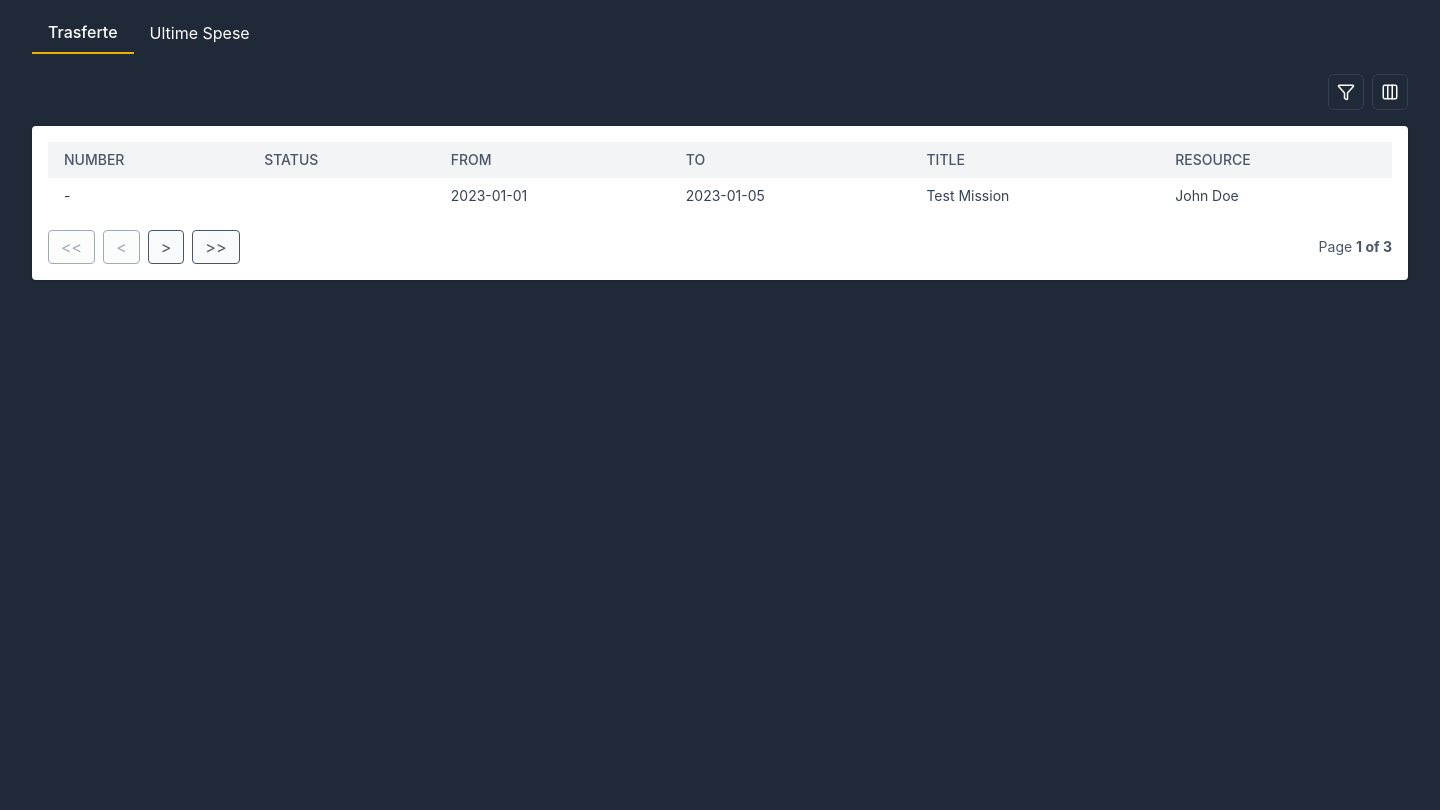
Test: MissionPage › suggests resources from the third character and keeps the filter open while picking
Click the button with test id "mission-filter-button".
click(1346, 92)  # box top-left (1328, 74), bottom-right (1364, 110)
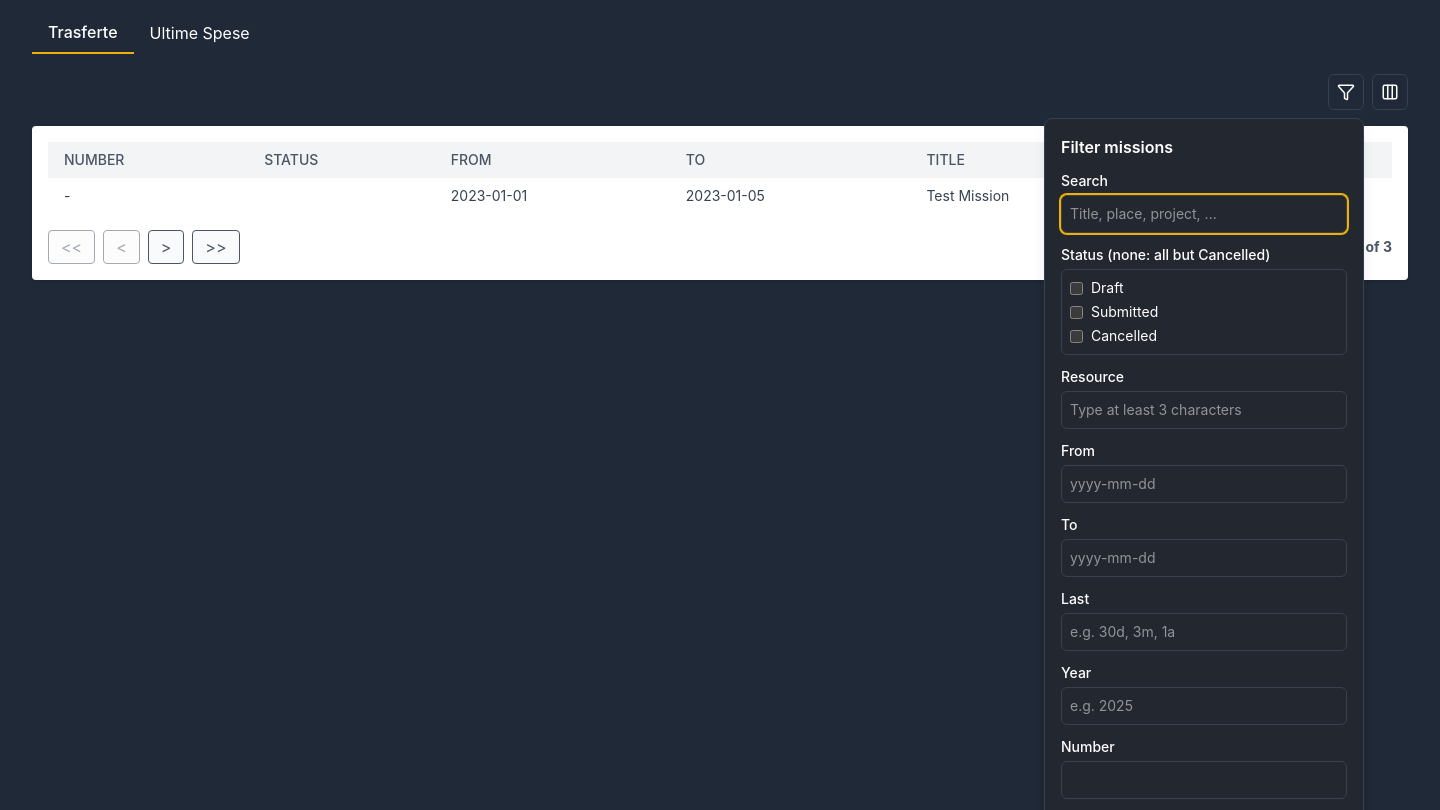
Type "ja" into the dropdown labelled "Resource".
click(1204, 410); type("ja")  # box top-left (1066, 396), bottom-right (1342, 424)
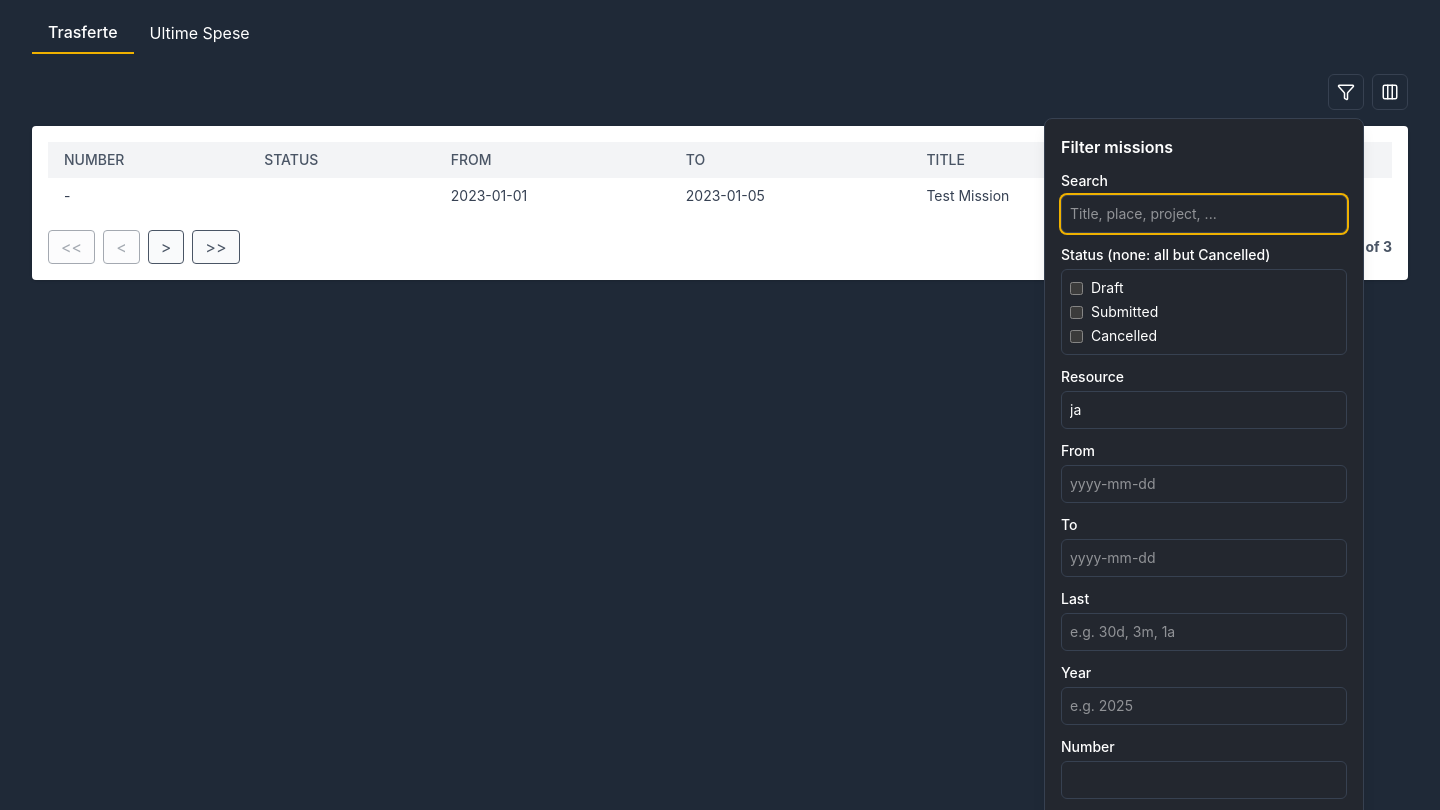
Replace the text in the dropdown labelled "Resource" with "jan" at (1204, 410), box top-left (1066, 396), bottom-right (1342, 424)
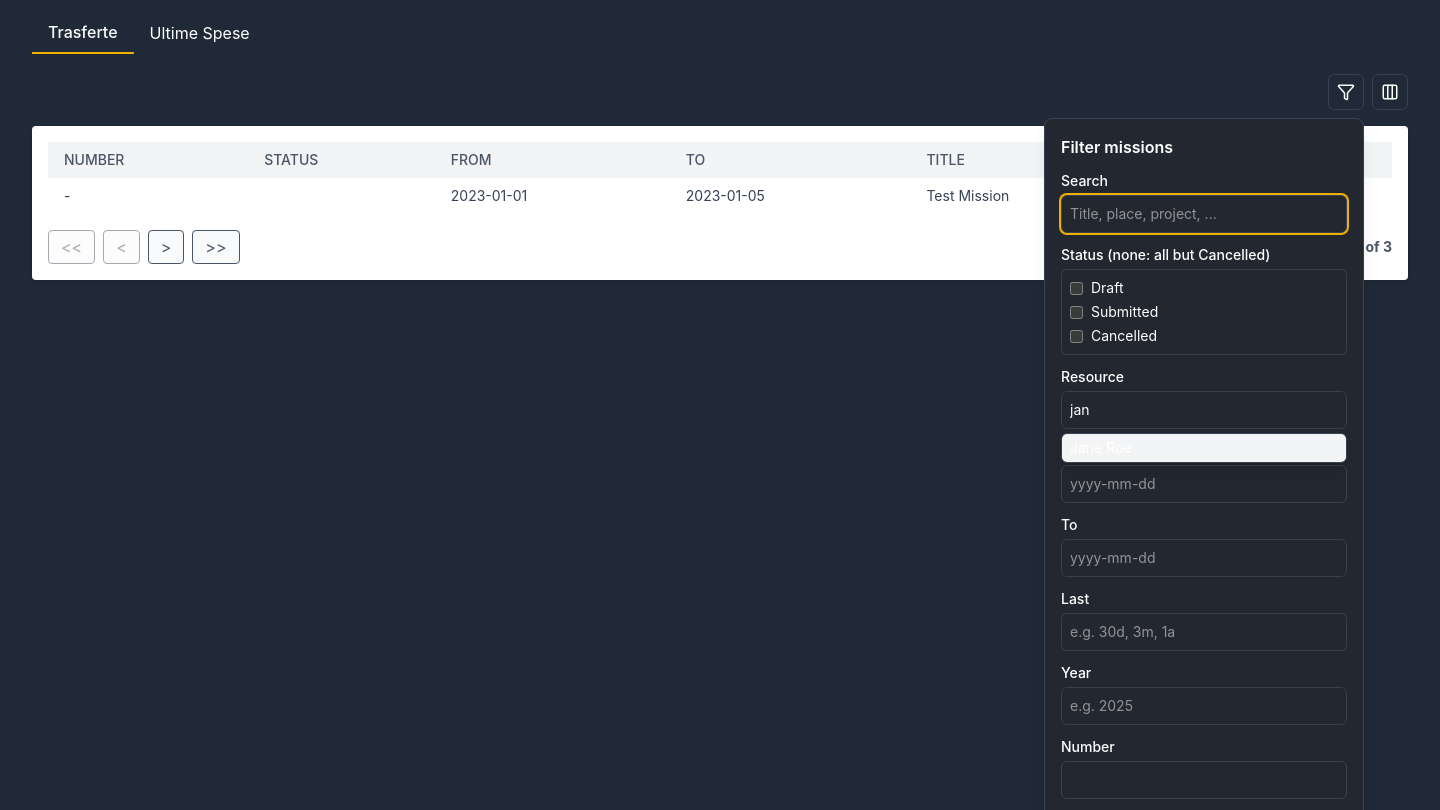
Press the mouse on the option "Jane Roe" at (1101, 448), box top-left (1062, 434), bottom-right (1346, 462)
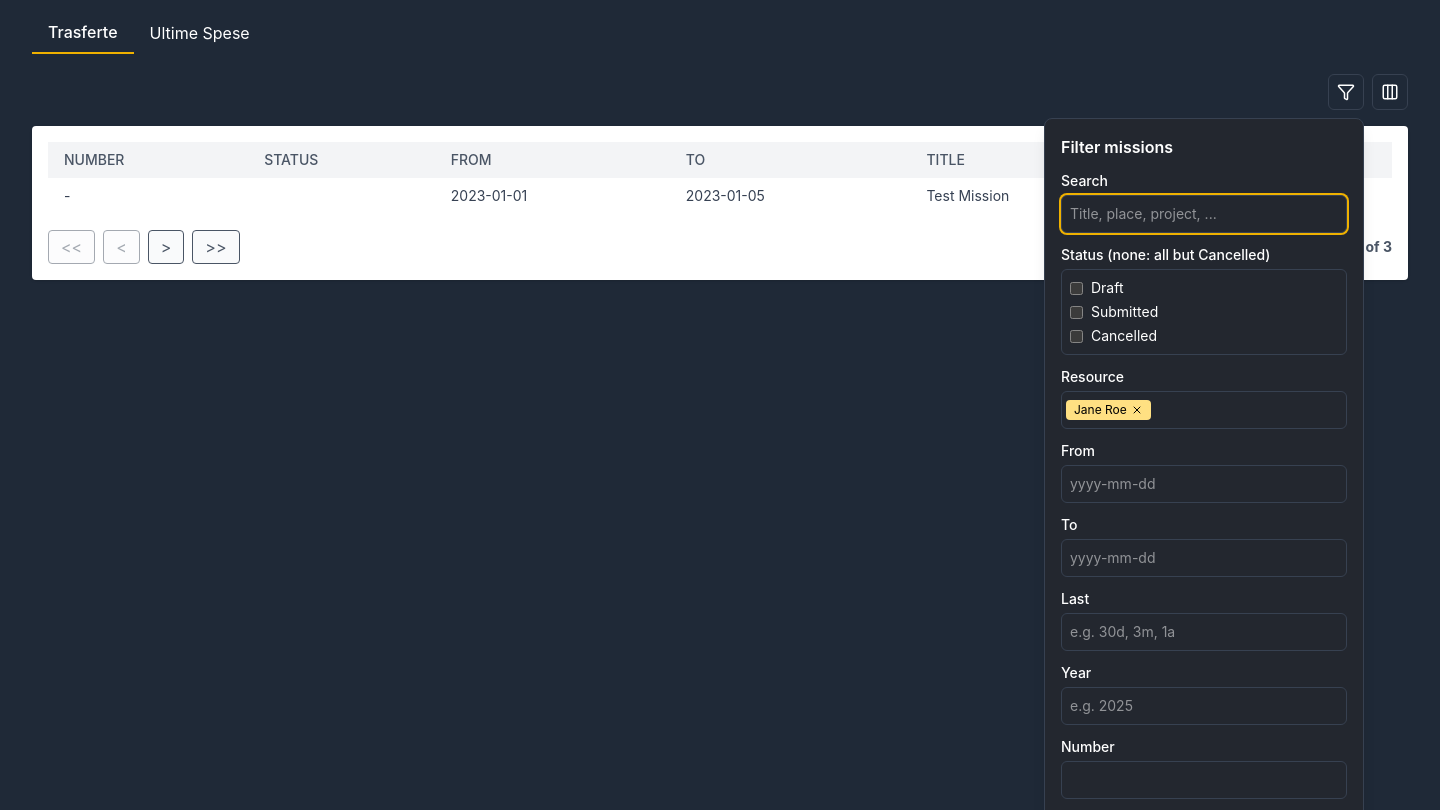
Check: the button named "Remove Jane Roe" is shown, box top-left (1131, 404), bottom-right (1143, 416)
Check: the option is gone
